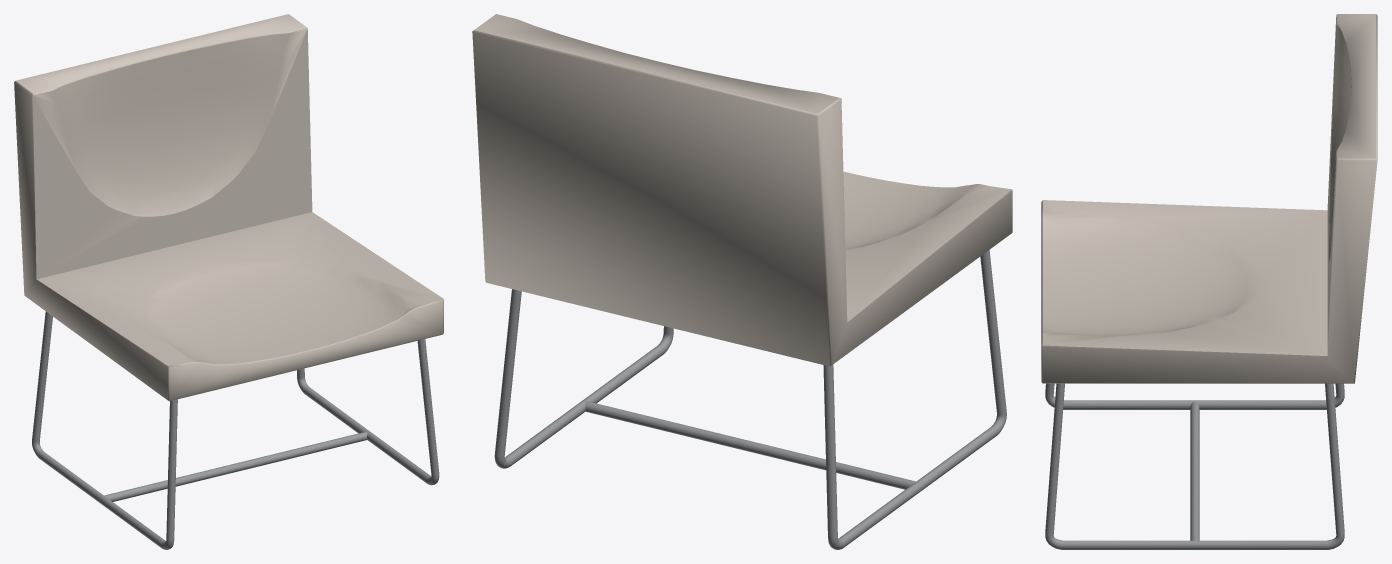
Rendered from LC_3012_ChairG_LOD3.FBX.
The picture shows the model from 3 angles, left to right: view 1: azimuth 30°, elevation 25°; view 2: azimuth 150°, elevation 25°; view 3: azimuth 270°, elevation 25°; orthographic projection. The views are drawn at different scales.
Visible parts, largest first — view 1: LC_3012_ChairG_LOD3; view 2: LC_3012_ChairG_LOD3; view 3: LC_3012_ChairG_LOD3.
Boxes of the visible parts, x1,y1,x2,y2 form: LC_3012_ChairG_LOD3: (14,14,443,549); LC_3012_ChairG_LOD3: (472,14,1012,549); LC_3012_ChairG_LOD3: (1041,14,1377,549).
Bounding box in the file's own units: 44.92 × 56.51 × 43.78.
1 material, 1 textured.
